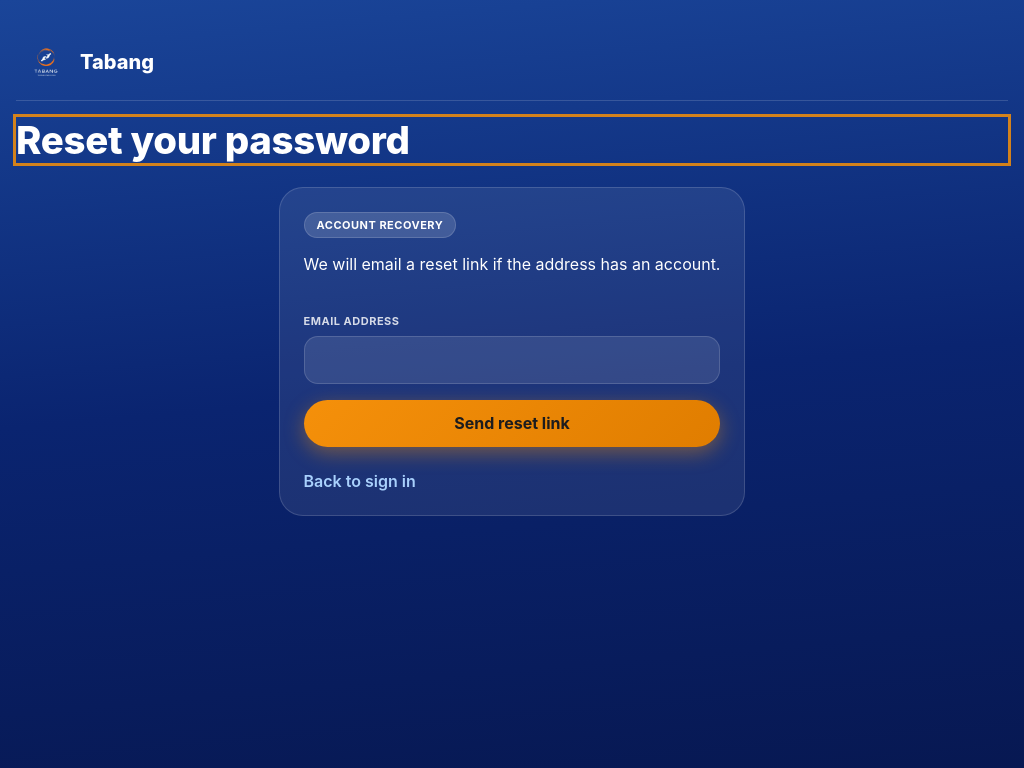
Test case: authentication forms › acknowledges a password reset identically whether or not it succeeded
Type "unknown@example.test" into the field labelled "Email address" at coordinates (512, 360), box 304,336 -> 720,384
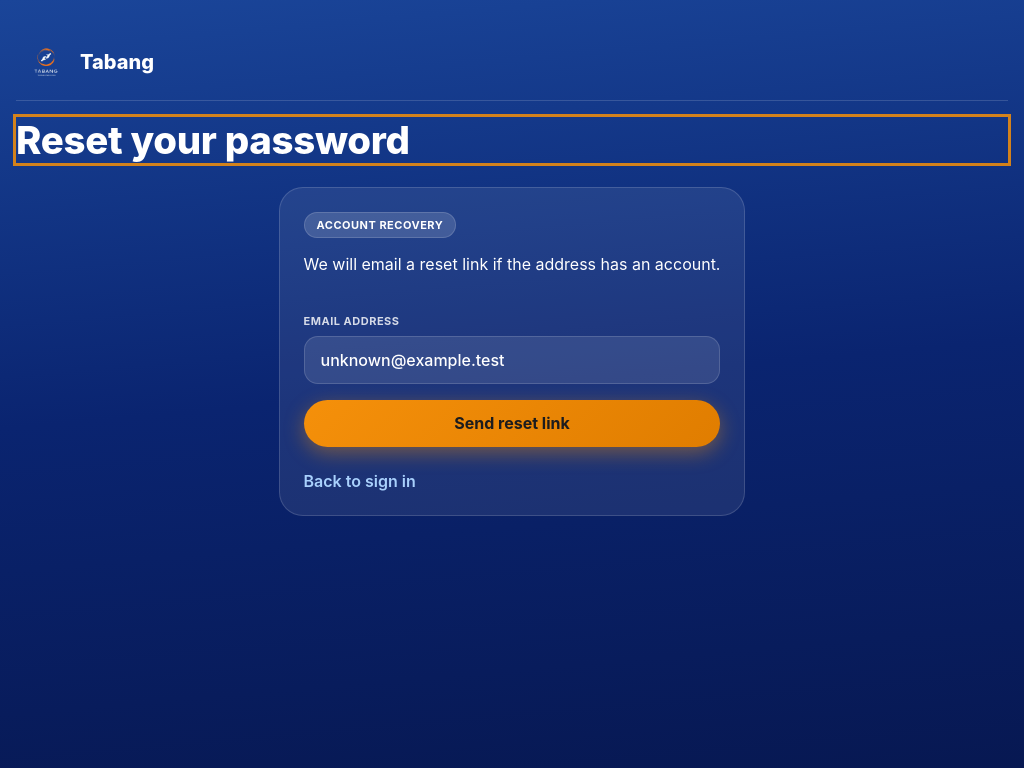
Click the button "Send reset link" at coordinates (512, 423), box 304,400 -> 720,447
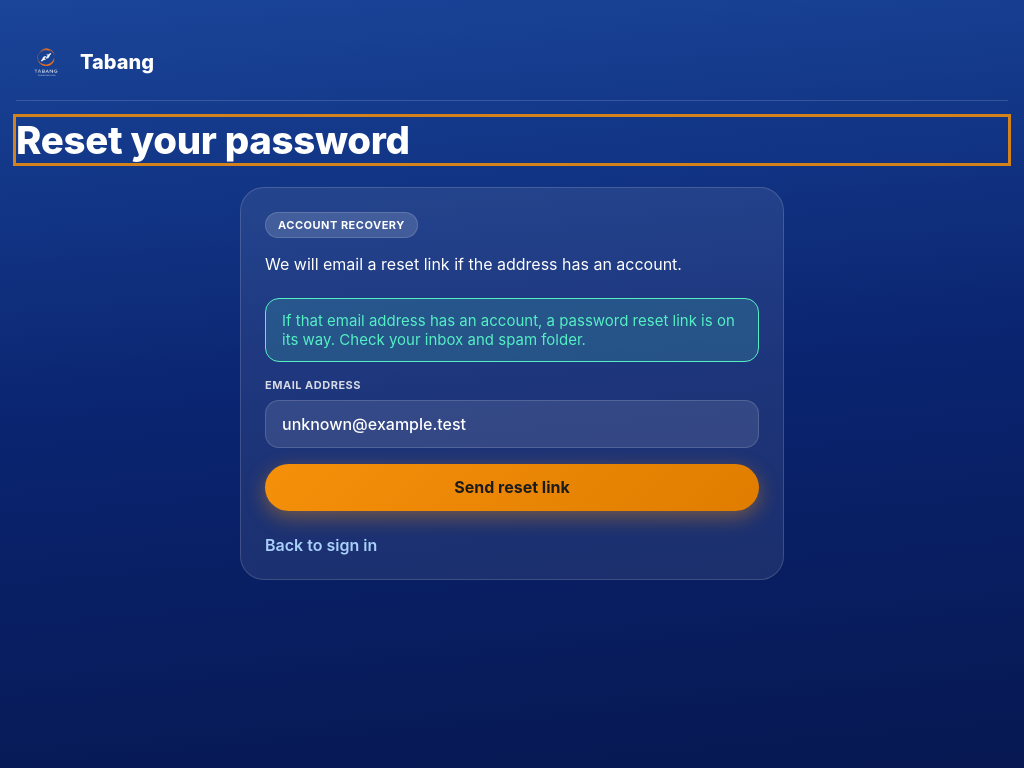
Result: the message shows "If that email address has an account" at 282,311 -> 735,349
